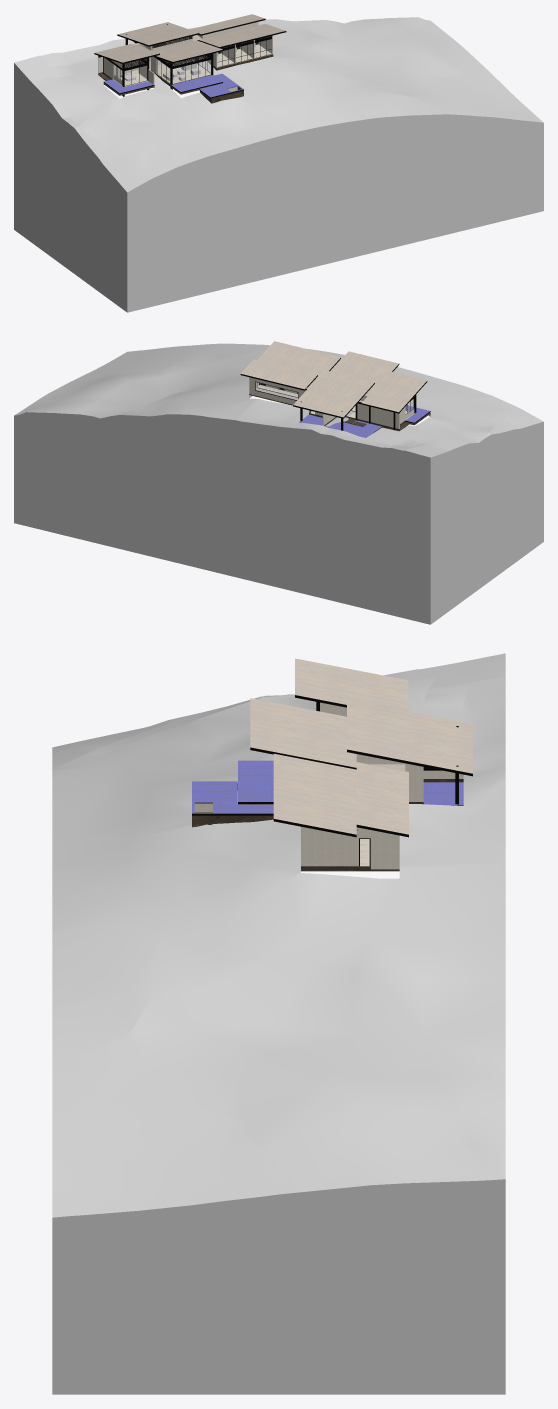
The model's file is Proyecto_1.gltf.
3 views of the same model, one above another, from view 1: azimuth 30°, elevation 25°; view 2: azimuth 150°, elevation 25°; view 3: azimuth 270°, elevation 25° (orthographic). The views are drawn at different scales.
Parts seen in each view (by area): view 1: Superficie [212898], Subregión [317538], Subregión [318027], Cubierta básica Generic Roof - 300mm [384559], Subregión [424961], Muro básico Muro en ladrillo 12 cm [216100], System Panel Glazed [396429], Suelo Placa - Entrepiso 10cm con mortero de nivelación_d4892, Suelo Solado 1.5cm - acabado en deck [443873], Subregión [320949], M_W Shapes W310X38.7 [377727], Rectangular Mullion 30mm Square [458426] (+1 smaller); view 2: Superficie [212898], Cubierta básica Generic Roof - 300mm [384559], Subregión [317538], Subregión [318027], Subregión [424961], Muro básico Muro en ladrillo 12 cm [216100], Plataforma Pad 2 [328773], Suelo Placa - Entrepiso 10cm con mortero de nivelación_d4892, System Panel Glazed [396429]; view 3: Superficie [212898], Cubierta básica Generic Roof - 300mm [384559], Muro básico Muro en ladrillo 12 cm [216100], Subregión [320949], Suelo Solado 1.5cm - acabado en deck [443873], Subregión [424961], Suelo Placa - Entrepiso 10cm con mortero de nivelación_d4892, Subregión [318027], Subregión [317538], Plataforma Pad 2 [328773].
Part boxes in pixels (x1=…): Superficie [212898]: x1=14, y1=17, x2=543, y2=296; Subregión [317538]: x1=87, y1=144, x2=176, y2=312; Subregión [318027]: x1=64, y1=120, x2=192, y2=300; Cubierta básica Generic Roof - 300mm [384559]: x1=94, y1=14, x2=286, y2=63; Subregión [424961]: x1=18, y1=59, x2=98, y2=239; Muro básico Muro en ladrillo 12 cm [216100]: x1=98, y1=21, x2=272, y2=91; System Panel Glazed [396429]: x1=113, y1=40, x2=271, y2=86; Suelo Placa - Entrepiso 10cm con mortero de nivelación_d4892: x1=98, y1=44, x2=273, y2=103; Suelo Solado 1.5cm - acabado en deck [443873]: x1=103, y1=73, x2=243, y2=98; Subregión [320949]: x1=377, y1=64, x2=482, y2=251; M_W Shapes W310X38.7 [377727]: x1=98, y1=24, x2=271, y2=96; Rectangular Mullion 30mm Square [458426]: x1=124, y1=36, x2=271, y2=68; Superficie [212898]: x1=14, y1=343, x2=495, y2=624; Cubierta básica Generic Roof - 300mm [384559]: x1=240, y1=341, x2=427, y2=418; Subregión [317538]: x1=495, y1=397, x2=543, y2=570; Subregión [318027]: x1=479, y1=391, x2=506, y2=587; Subregión [424961]: x1=366, y1=431, x2=444, y2=621; Muro básico Muro en ladrillo 12 cm [216100]: x1=249, y1=377, x2=414, y2=428; Plataforma Pad 2 [328773]: x1=249, y1=394, x2=430, y2=437; Suelo Placa - Entrepiso 10cm con mortero de nivelación_d4892: x1=257, y1=385, x2=414, y2=430; System Panel Glazed [396429]: x1=255, y1=381, x2=414, y2=414; Superficie [212898]: x1=52, y1=653, x2=505, y2=1394; Cubierta básica Generic Roof - 300mm [384559]: x1=250, y1=658, x2=472, y2=837; Muro básico Muro en ladrillo 12 cm [216100]: x1=194, y1=702, x2=463, y2=869; Subregión [320949]: x1=52, y1=964, x2=304, y2=1394; Suelo Solado 1.5cm - acabado en deck [443873]: x1=192, y1=760, x2=273, y2=815; Subregión [424961]: x1=422, y1=657, x2=487, y2=722; Suelo Placa - Entrepiso 10cm con mortero de nivelación_d4892: x1=192, y1=779, x2=463, y2=869; Subregión [318027]: x1=52, y1=694, x2=294, y2=780; Subregión [317538]: x1=52, y1=710, x2=210, y2=769; Plataforma Pad 2 [328773]: x1=194, y1=782, x2=463, y2=871.
Bounding box in the file's own units: 67.22 × 29.61 × 31.66.
